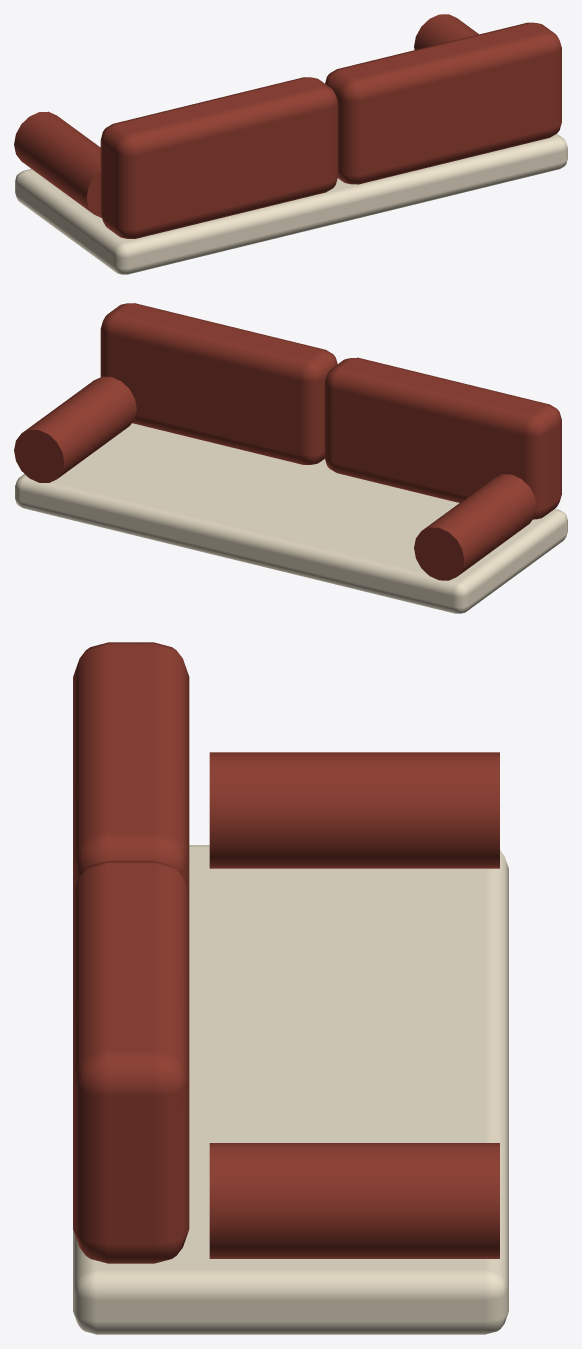
3 views of the same model, one above another, from view 1: azimuth 30°, elevation 25°; view 2: azimuth 150°, elevation 25°; view 3: azimuth 270°, elevation 25° (orthographic). The views are drawn at different scales.
Visible parts, largest first — view 1: masnad-left, gadda; view 2: masnad-left, gadda; view 3: masnad-left, gadda.
Boxes of the visible parts, box(x1,y1,x2,y2) form: masnad-left: box(14, 14, 561, 238); gadda: box(15, 134, 567, 274); masnad-left: box(14, 303, 561, 580); gadda: box(15, 423, 567, 613); masnad-left: box(73, 642, 499, 1263); gadda: box(73, 845, 508, 1334).
Bounding box in the file's own units: 1.8 × 0.52 × 0.75.
